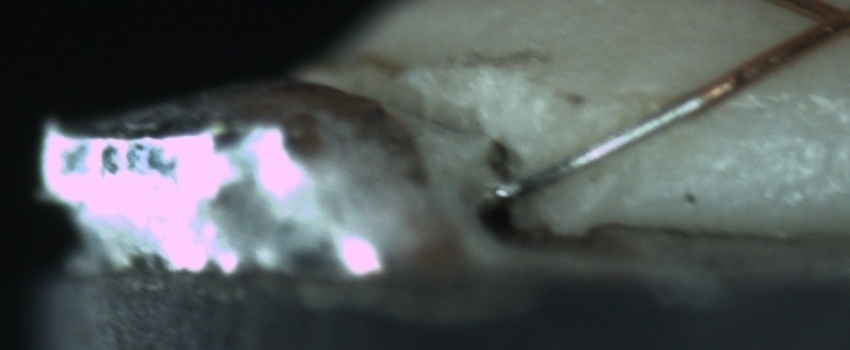CL: (793, 0, 850, 46)
TS: (497, 92, 704, 207)
